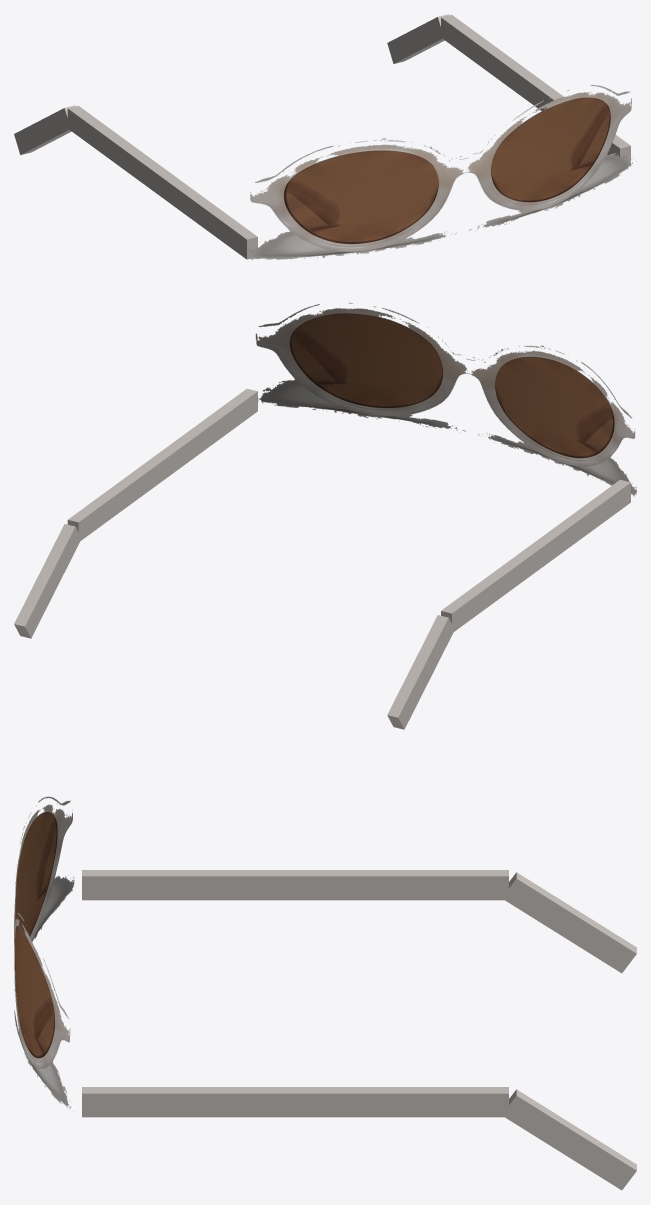
3 renders of one model, top to bottom at view 1: azimuth 30°, elevation 25°; view 2: azimuth 150°, elevation 25°; view 3: azimuth 270°, elevation 25°, orthographic. The views are drawn at different scales.
Parts seen in each view (by area): view 1: anteojo; view 2: anteojo; view 3: anteojo.
Part boxes in pixels (x1,y1,x2,y2): anteojo: (14, 14, 636, 259); anteojo: (14, 302, 636, 729); anteojo: (14, 796, 636, 1190).
Size of the model in its own units: 0.142 by 0.0606 by 0.165.
Materials: 2 (1 with a texture image).
